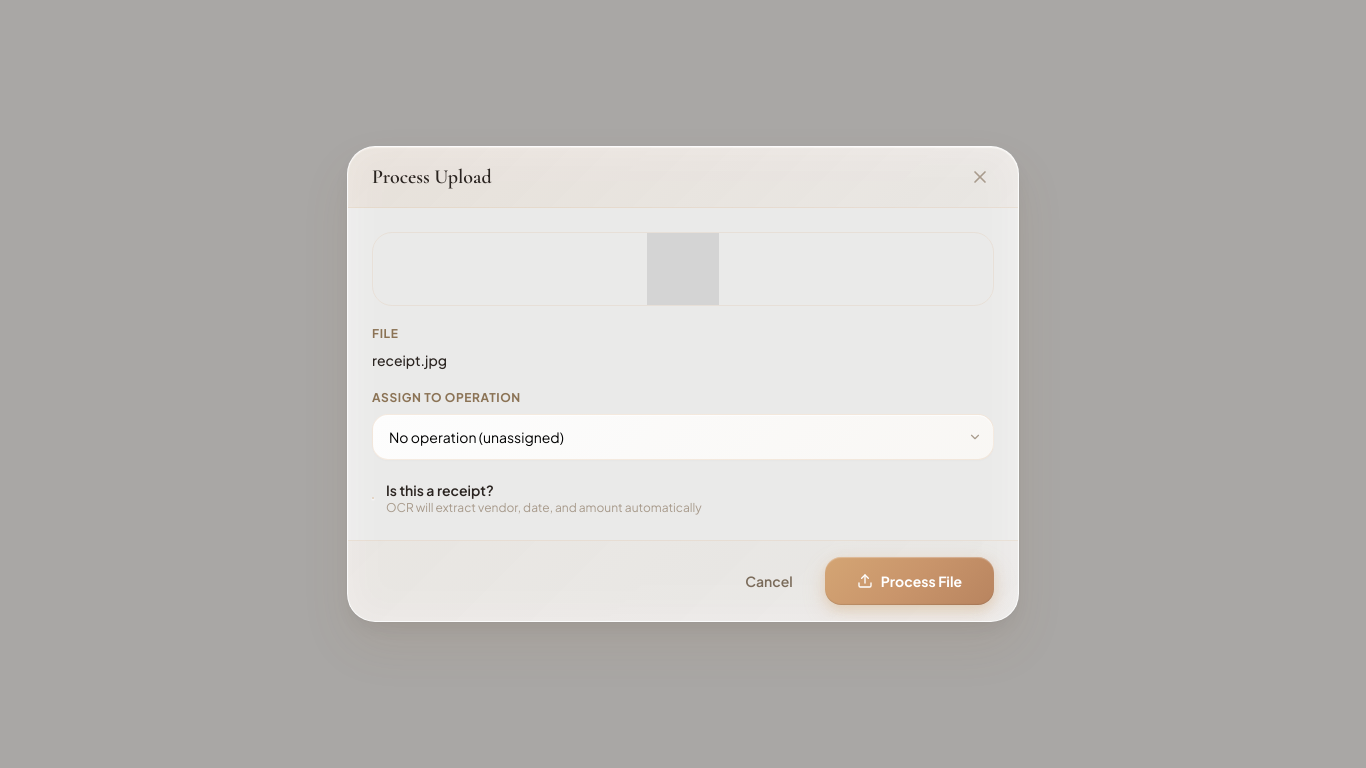
Test: ProcessUploadModal › renders "Scan Receipt" button when receipt checkbox is checked
This screenshot has width=1366, height=768.
Click the checkbox: x=537, y=498 [372,481,702,515]
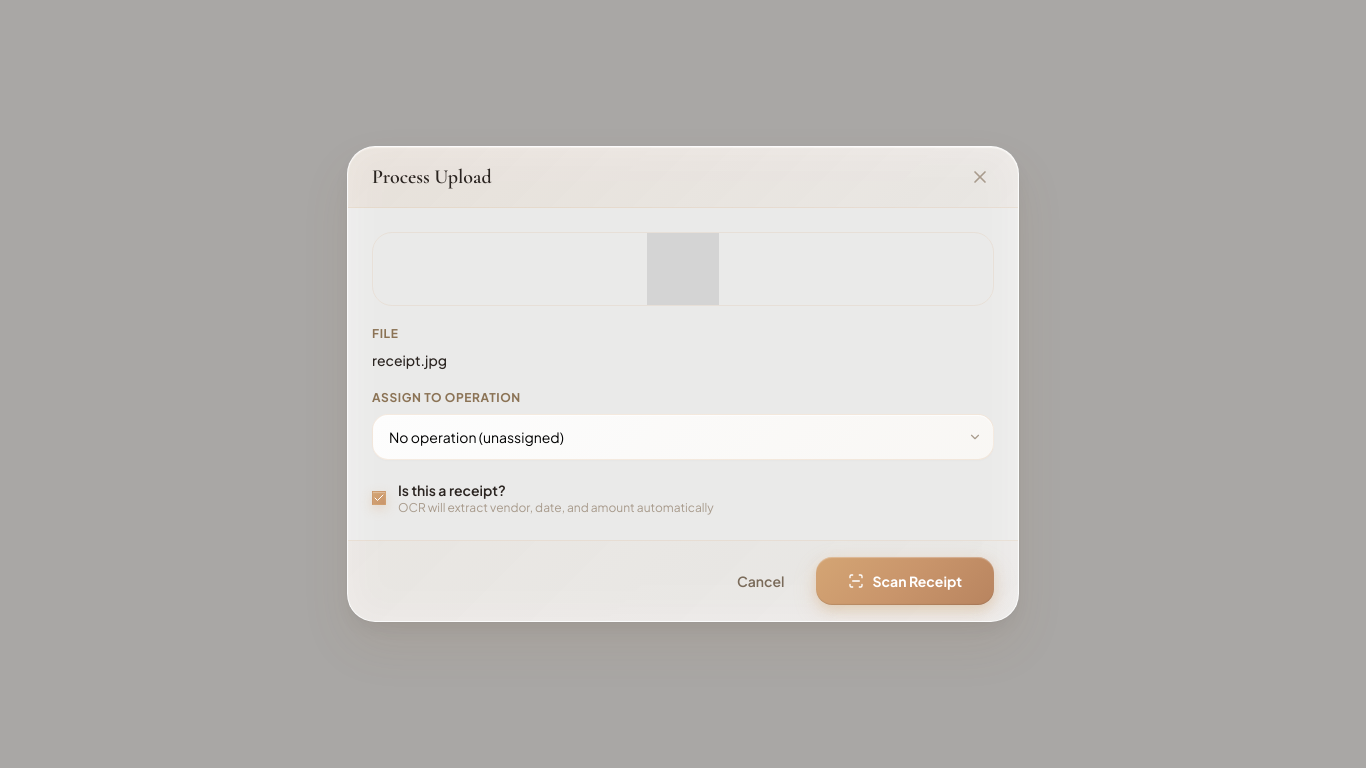
Expected: the button "Scan Receipt" is shown, [816,557,994,605]
